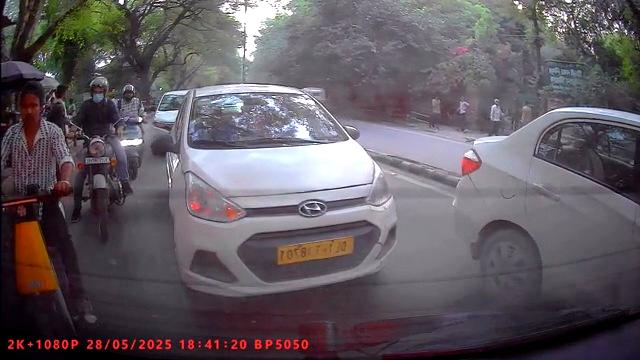motorcycle_with_helmet: (69, 74, 135, 245), (118, 81, 145, 181)
motorcycle_without_helmet: (0, 81, 77, 336)
